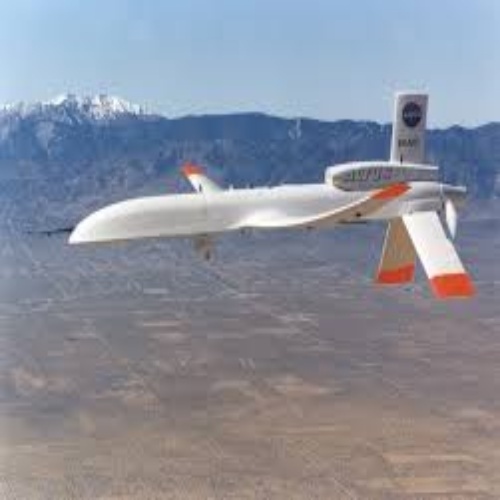uav675: (61, 88, 477, 300)
